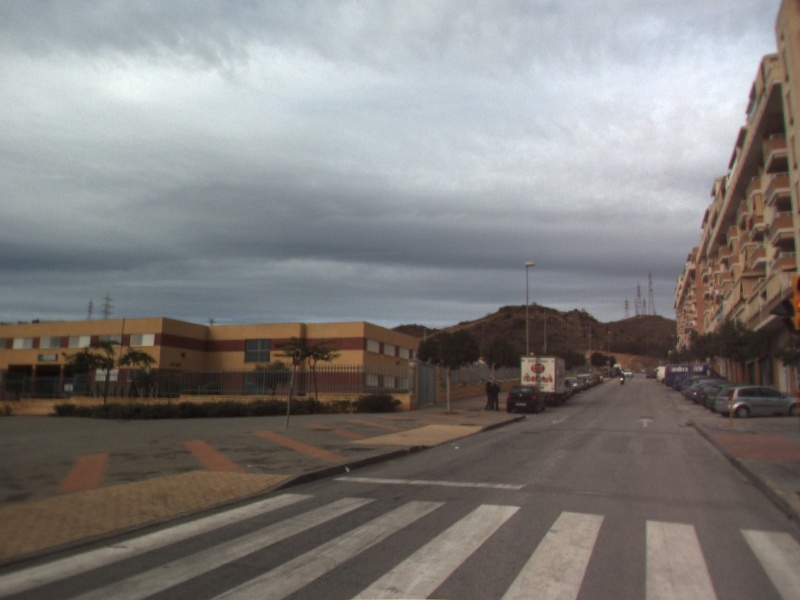STRAIGHT: (636, 415, 656, 429)
